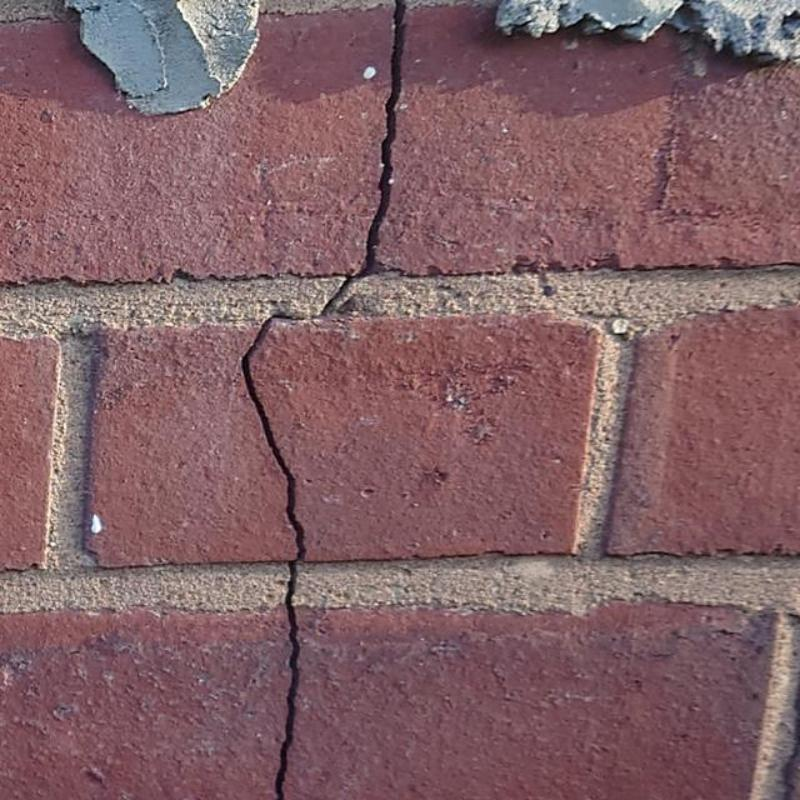crack: (242, 311, 305, 800), (360, 0, 406, 277), (321, 277, 355, 312)
